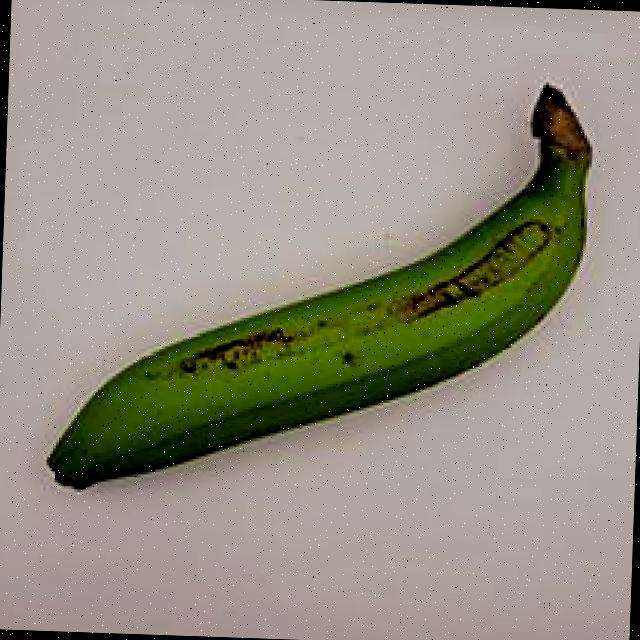Raw: (12, 52, 624, 526)
